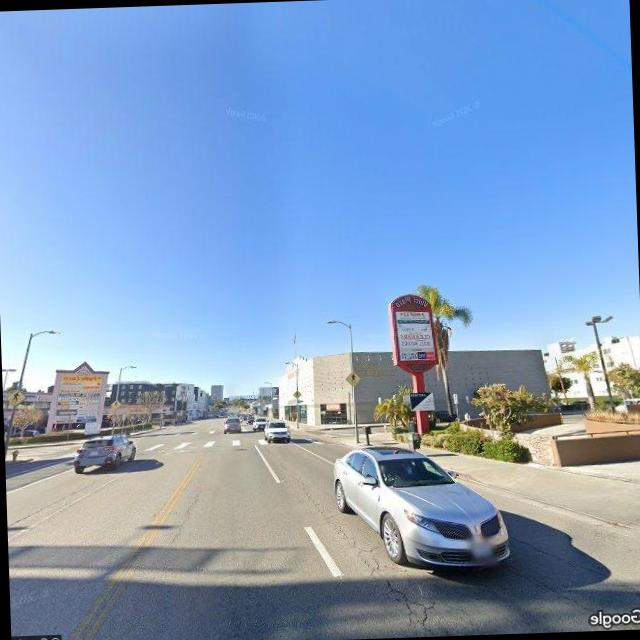crack: (309, 492, 447, 636)
pothole: (169, 484, 207, 547)
